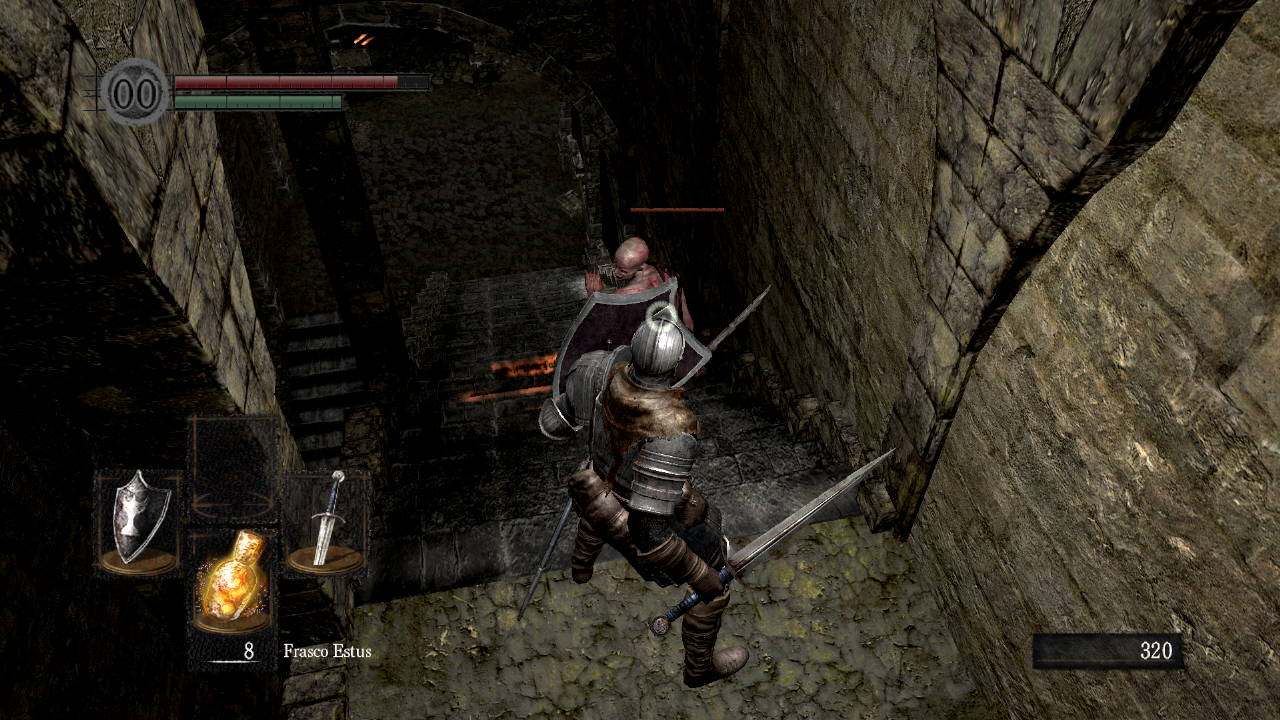hollow: (584, 236, 773, 379)
player: (517, 276, 898, 688)
